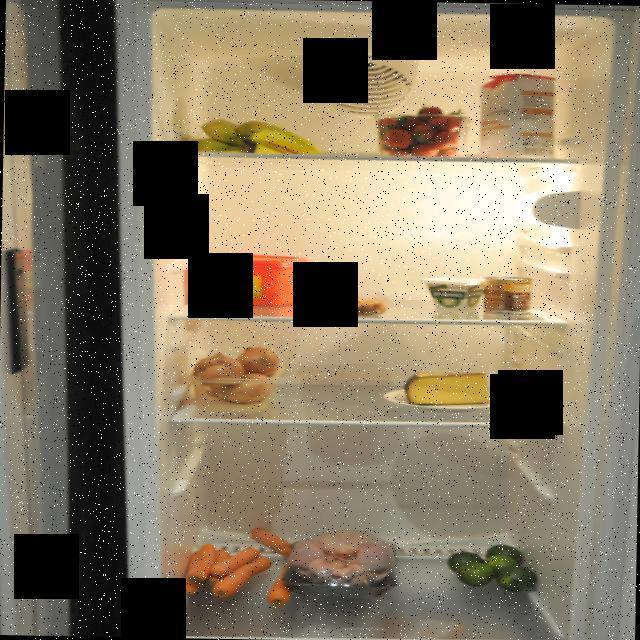banana: (174, 115, 312, 162)
butter: (195, 252, 308, 308)
carrot: (178, 523, 302, 609)
cheese: (400, 369, 496, 408)
chicken: (282, 526, 406, 600)
corn: (483, 274, 535, 317)
goat_cheese: (419, 272, 488, 314)
lime: (444, 542, 540, 594)
onion: (190, 342, 282, 407)
shrimp: (296, 292, 387, 314)
strawberries: (371, 100, 470, 158)
sugar: (469, 70, 556, 158)
